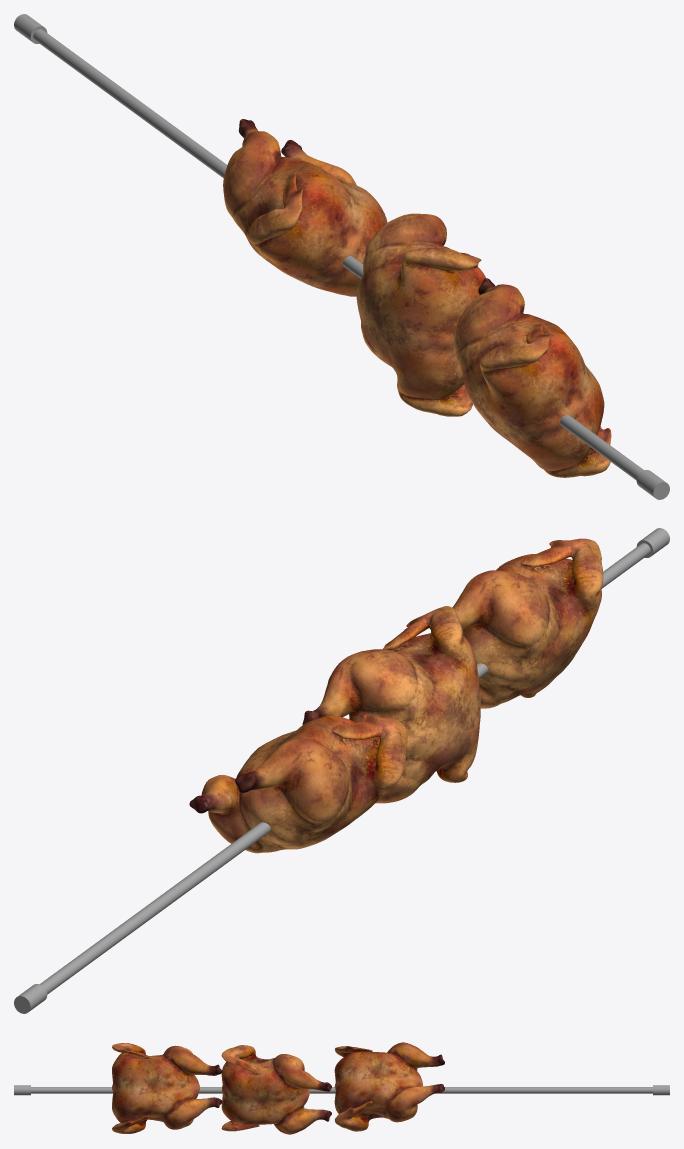
File: chicken-compressed.glb
3 renders of one model, top to bottom at view 1: azimuth 30°, elevation 25°; view 2: azimuth 150°, elevation 25°; view 3: azimuth 270°, elevation 25°, orthographic. The views are drawn at different scales.
Parts seen in each view (by area): view 1: farooj1, Cylinder001; view 2: farooj1, Cylinder001; view 3: farooj1, Cylinder001.
Boxes of the visible parts, box(x1,y1,x2,y2) form: farooj1: box(223, 119, 611, 477); Cylinder001: box(14, 14, 669, 499); farooj1: box(189, 538, 603, 853); Cylinder001: box(14, 528, 669, 1013); farooj1: box(112, 1042, 444, 1134); Cylinder001: box(14, 1085, 669, 1095).
Size of the model in its own units: 2.29 by 2.37 by 16.96.
2 materials, 1 textured.
